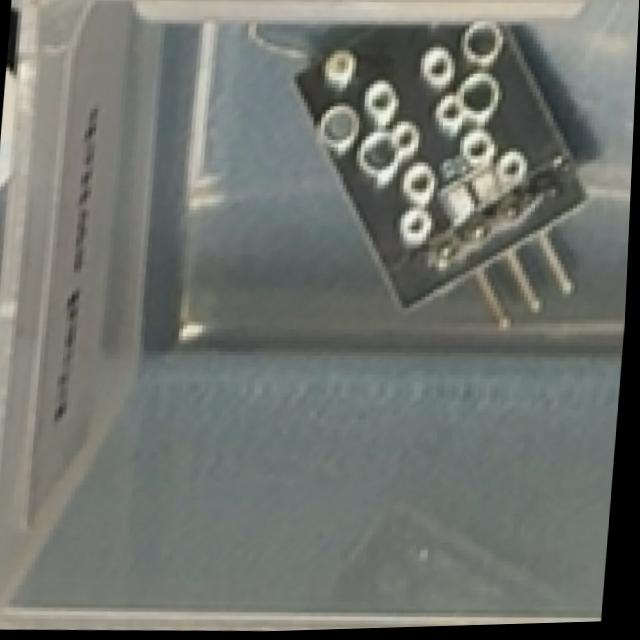Reed Switch: (269, 0, 605, 342)
